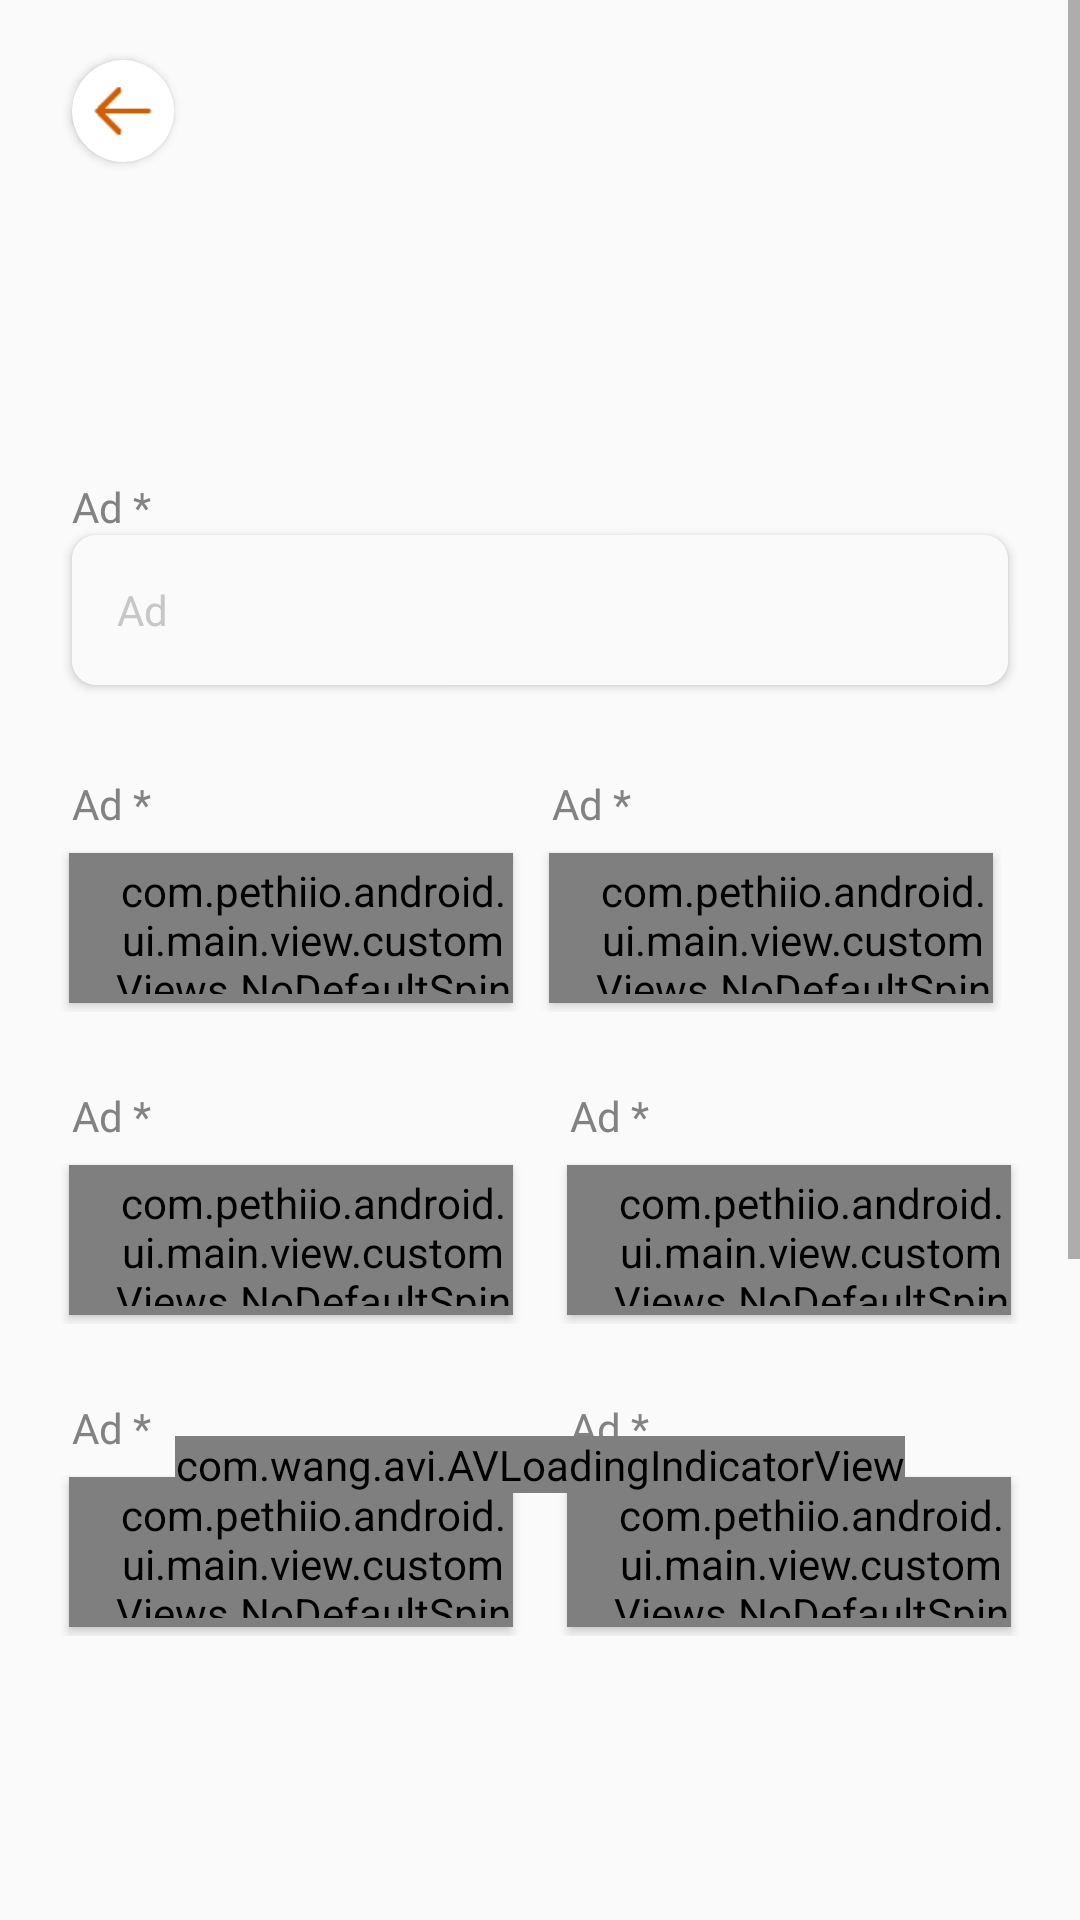

Named icons in this screenshot (1080w x 1920h) and their centers, (x,y):
back arrow: (123,111)
